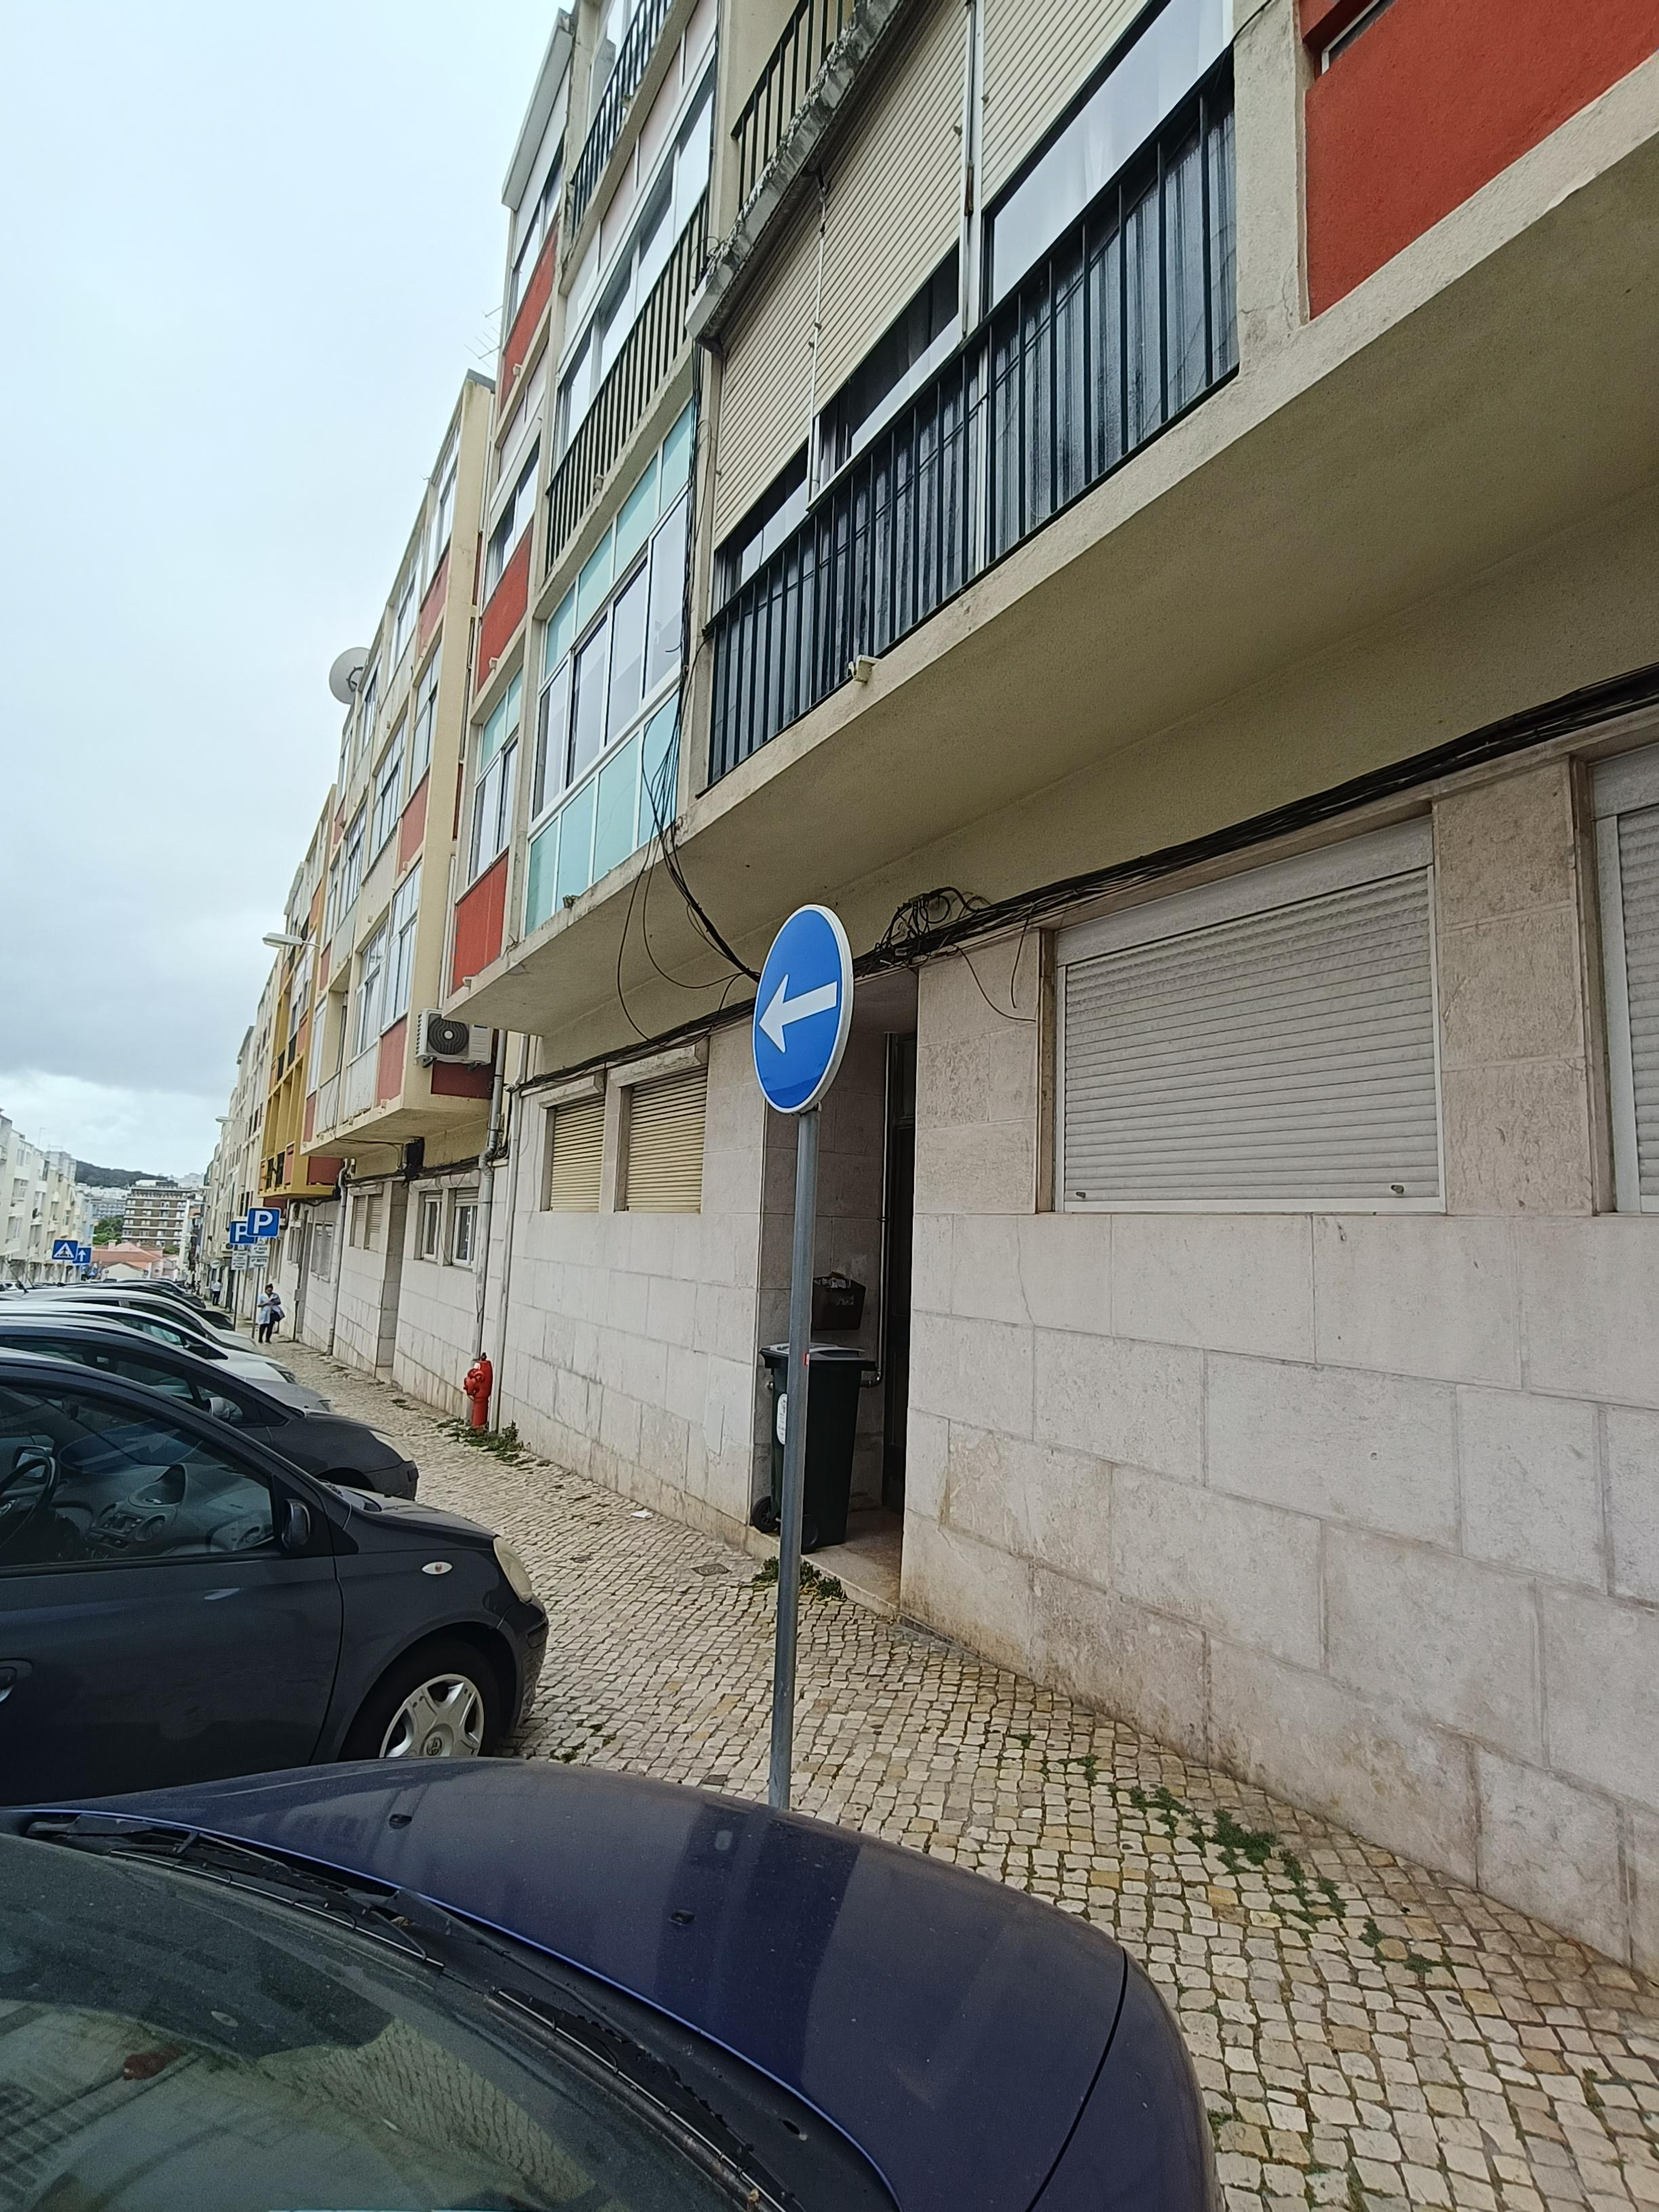Estacionamento autorizado: (247, 1204, 279, 1237), (228, 1217, 256, 1247)
Passagem para peoes: (52, 1238, 78, 1261)
sentido obrigatorio: (701, 907, 885, 1111), (77, 1247, 89, 1261)
